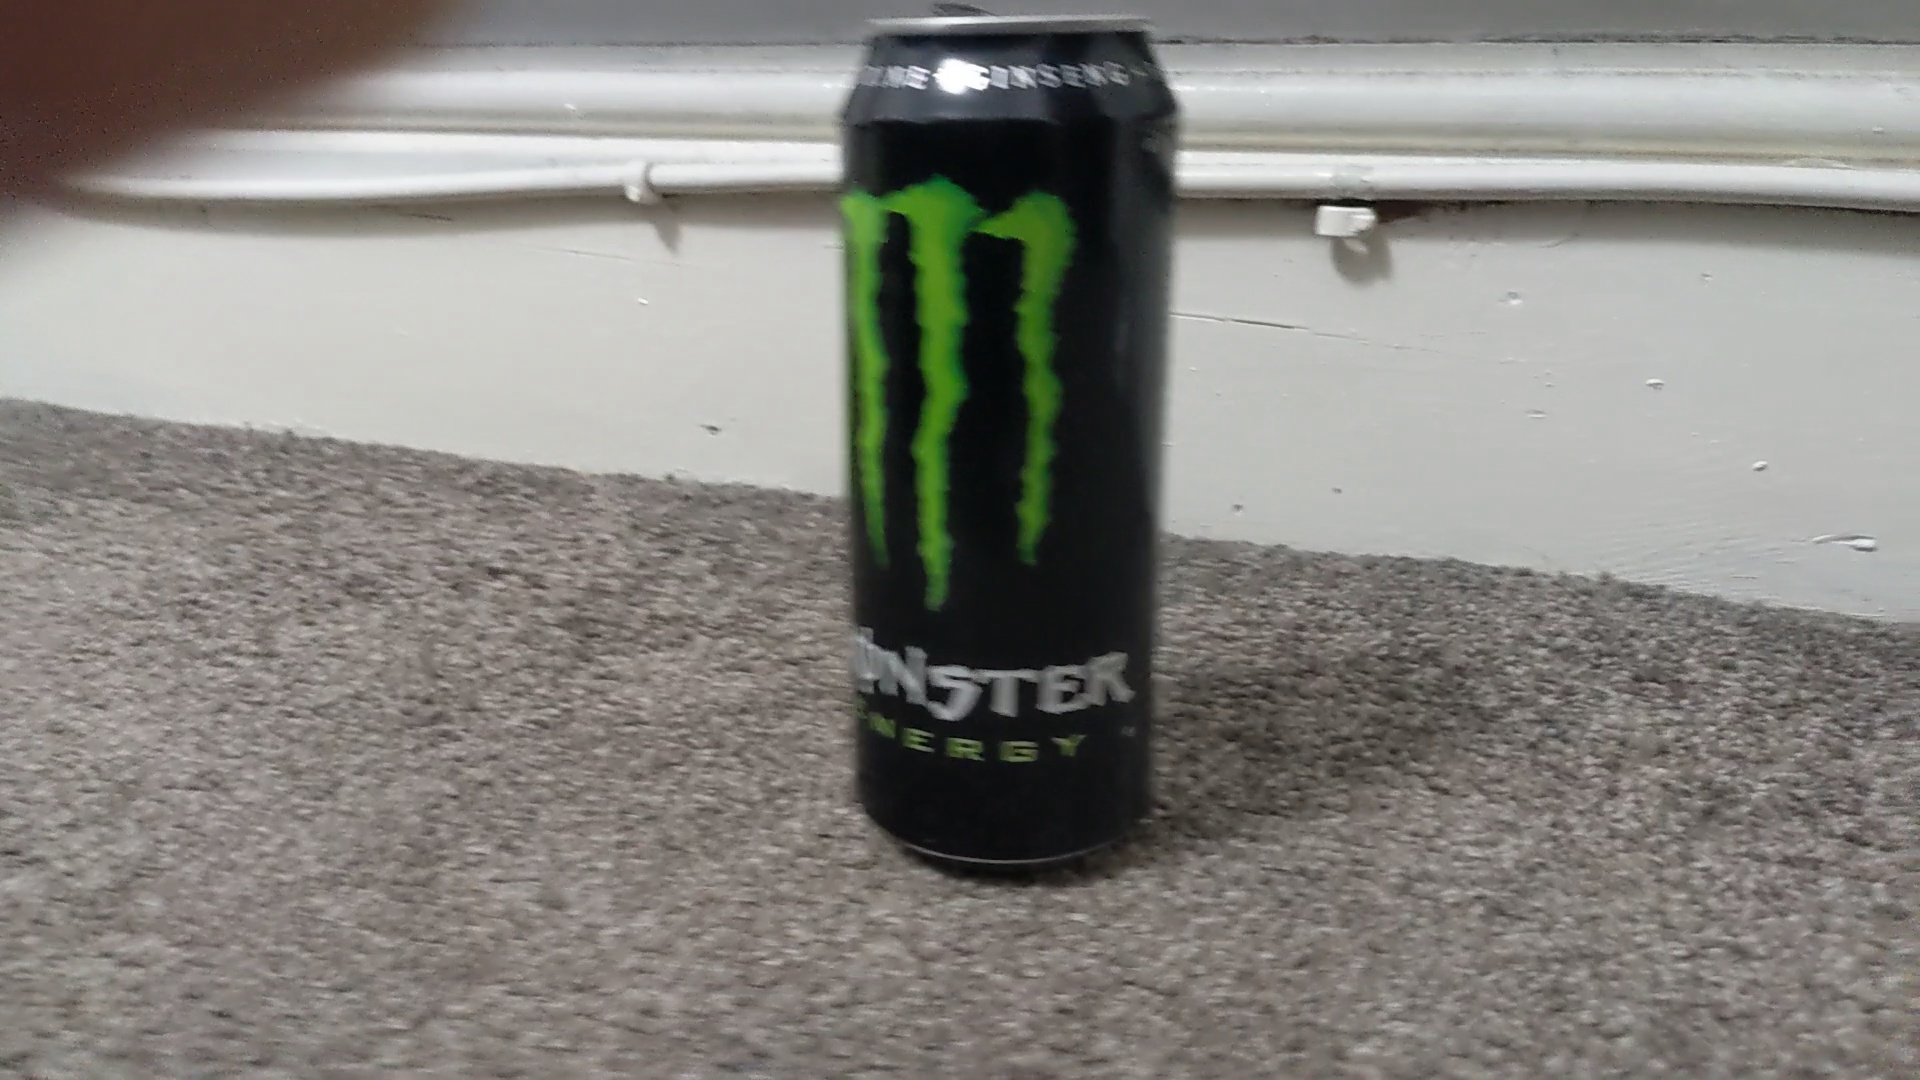monster-original: (837, 18, 1182, 870)
